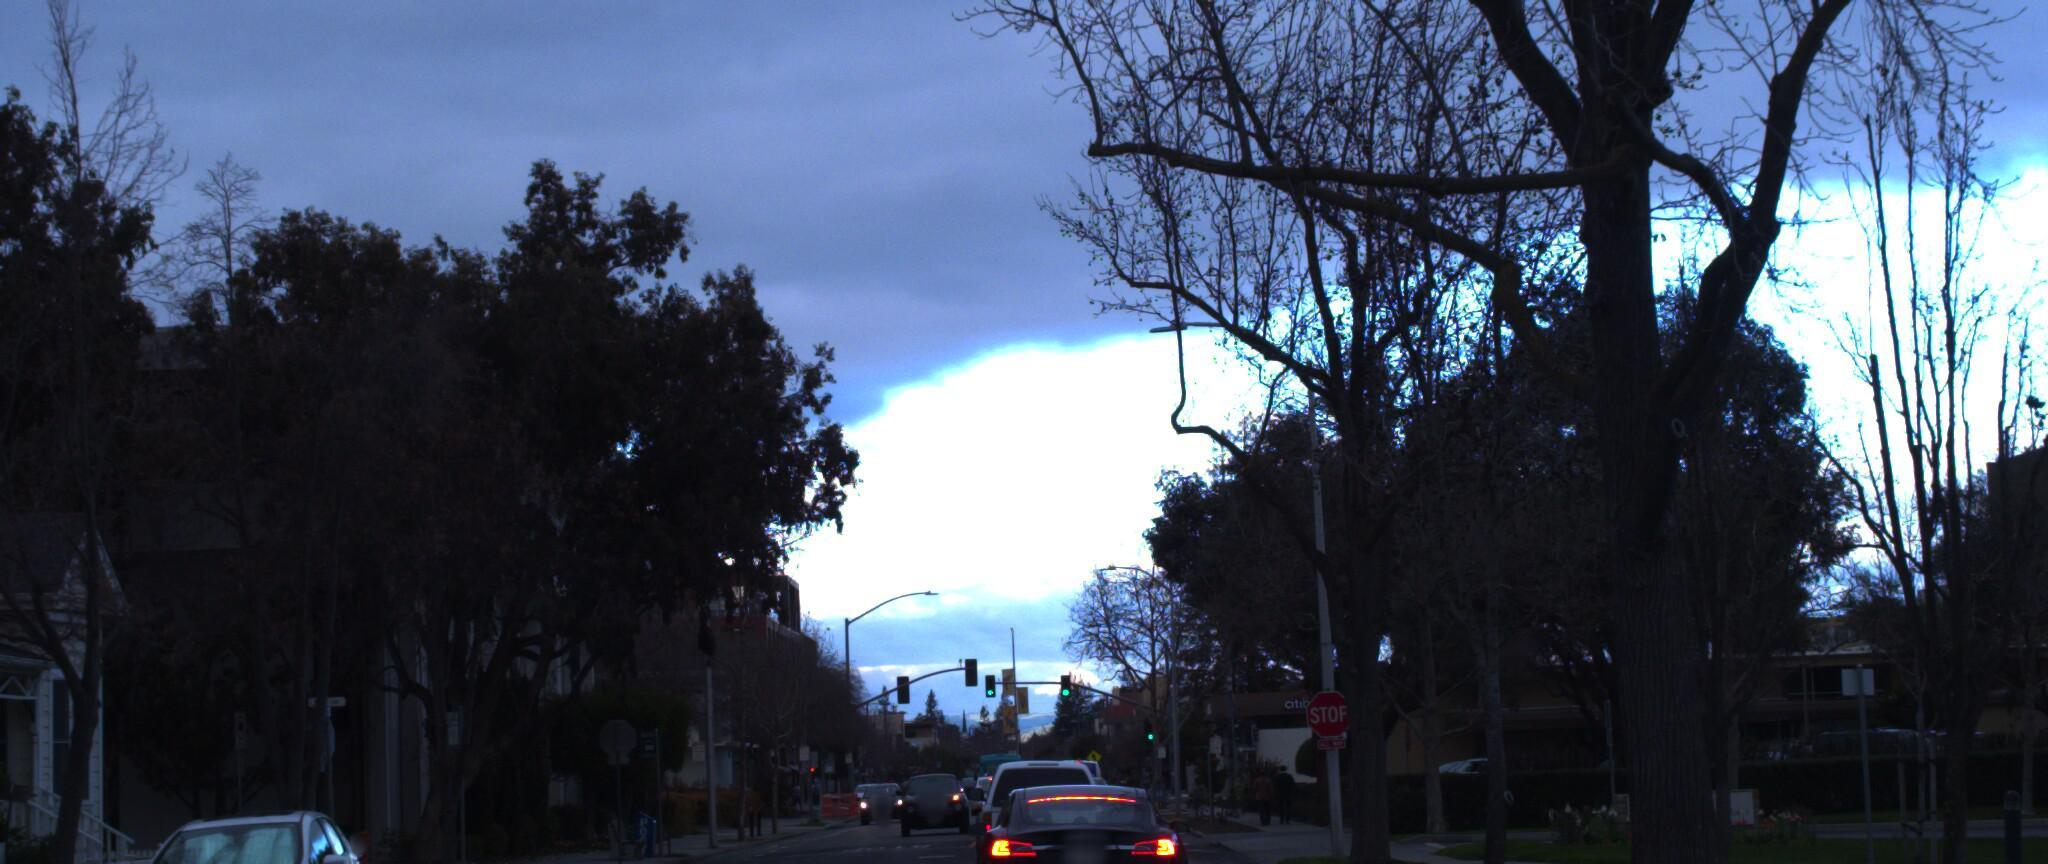car: (955, 724, 1127, 864), (956, 753, 1173, 864), (89, 804, 385, 864)
